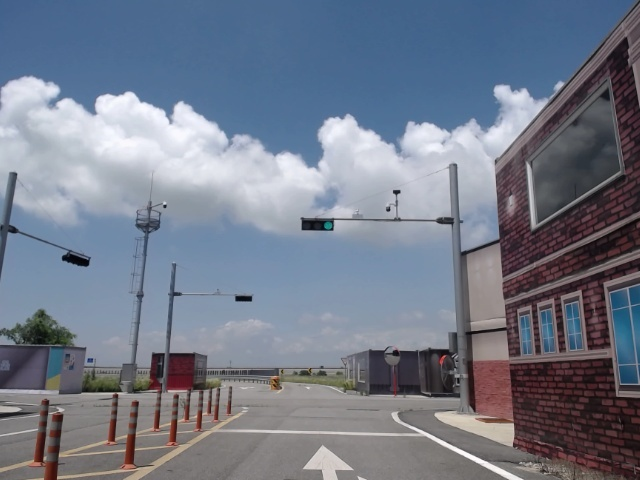green_3: (303, 220, 334, 231)
